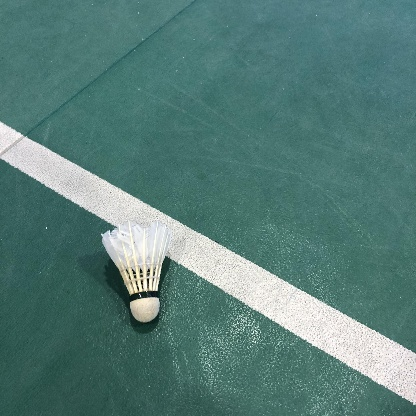ball_single: (102, 220, 171, 322)
